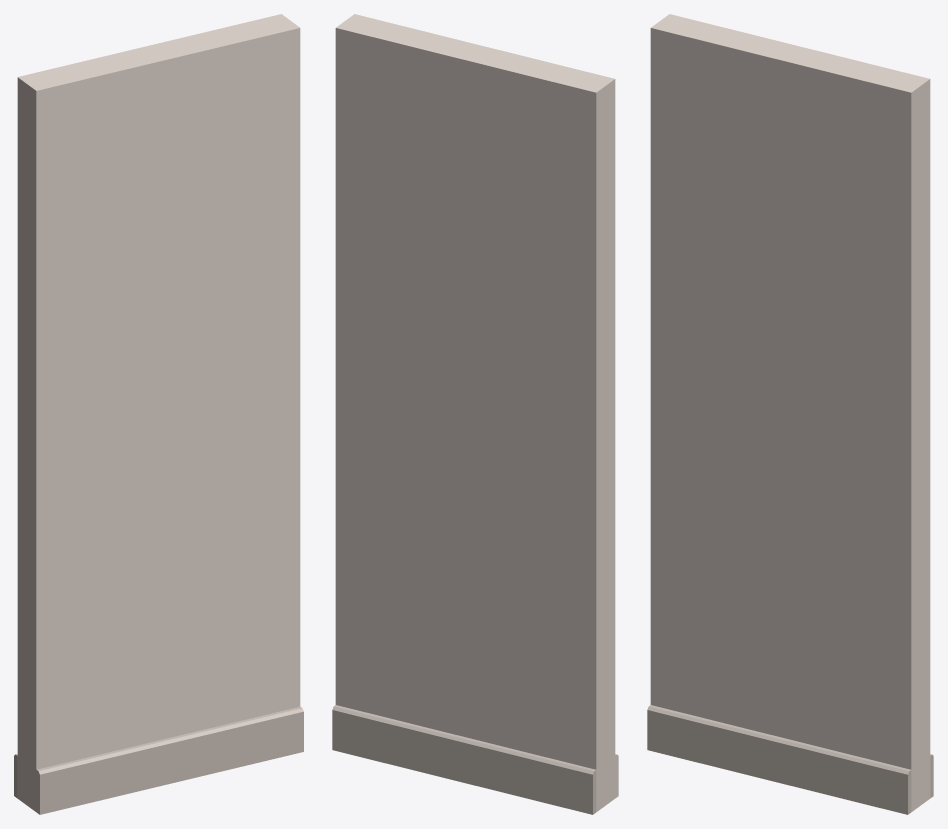
Rendered from WallDoubleSkirtingSmall.fbx.
3 renders of one model, left to right at view 1: azimuth 30°, elevation 25°; view 2: azimuth 150°, elevation 25°; view 3: azimuth 330°, elevation 25°, orthographic.
Visible parts, largest first — view 1: Wall_Both_Skirting_80; view 2: Wall_Both_Skirting_80; view 3: Wall_Both_Skirting_80.
Boxes of the visible parts, x1=… form: Wall_Both_Skirting_80: x1=14, y1=14, x2=303, y2=814; Wall_Both_Skirting_80: x1=332, y1=14, x2=618, y2=814; Wall_Both_Skirting_80: x1=647, y1=14, x2=933, y2=814.
Bounding box in the file's own units: 96 × 252 × 17.22.
Materials: 1 (1 with a texture image).
